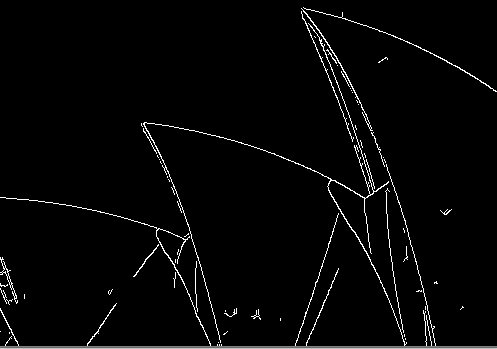opera house: (3, 3, 494, 341)
